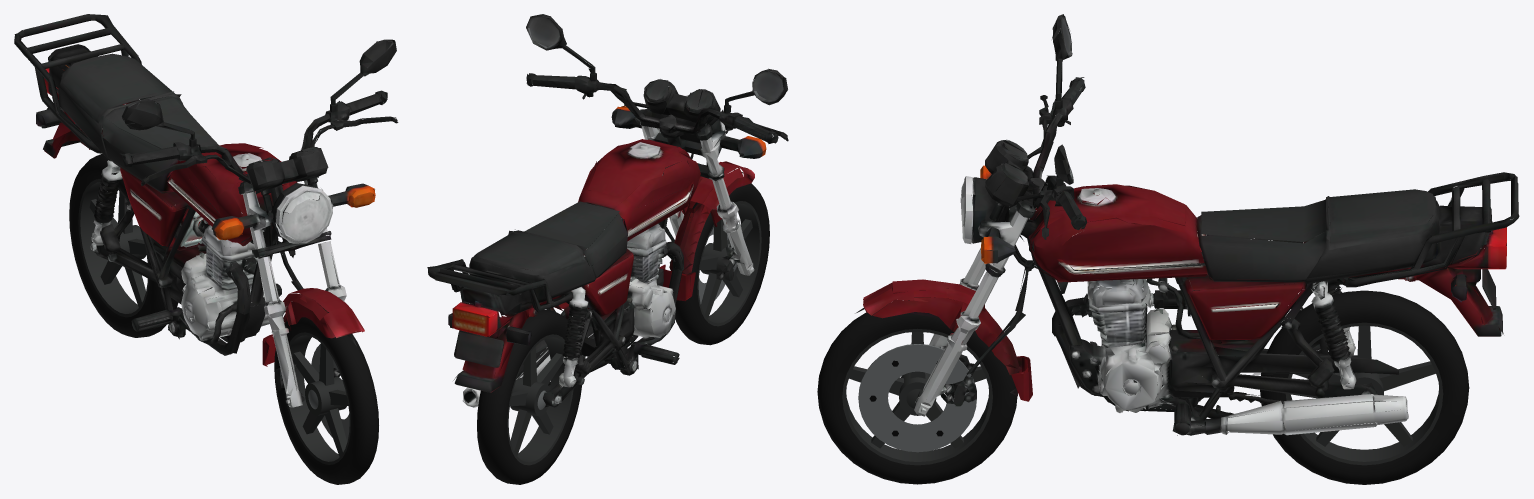
The model's file is moto-1.glb.
3 views of the same model, side by side, from view 1: azimuth 30°, elevation 25°; view 2: azimuth 150°, elevation 25°; view 3: azimuth 270°, elevation 25° (orthographic). The views are drawn at different scales.
Visible parts, largest first — view 1: Frota_moto, Fork, Tyre_Front, Tyre_Rear; view 2: Frota_moto, Fork, Tyre_Rear, Tyre_Front; view 3: Frota_moto, Fork, Tyre_Front, Tyre_Rear.
Part boxes in pixels (box(x1,y1,x2,y2)): Frota_moto: box(14, 14, 297, 355); Fork: box(120, 39, 398, 407); Tyre_Front: box(274, 317, 378, 484); Tyre_Rear: box(69, 153, 178, 337); Frota_moto: box(427, 117, 700, 407); Fork: box(526, 14, 788, 301); Tyre_Rear: box(477, 310, 582, 484); Tyre_Front: box(675, 183, 769, 345); Frota_moto: box(1013, 169, 1519, 435); Fork: box(855, 14, 1087, 416); Tyre_Front: box(817, 300, 1017, 484); Tyre_Rear: box(1260, 290, 1469, 484).
Bounding box in the file's own units: 1.03 × 1.29 × 2.06.
1 material, 1 textured.
